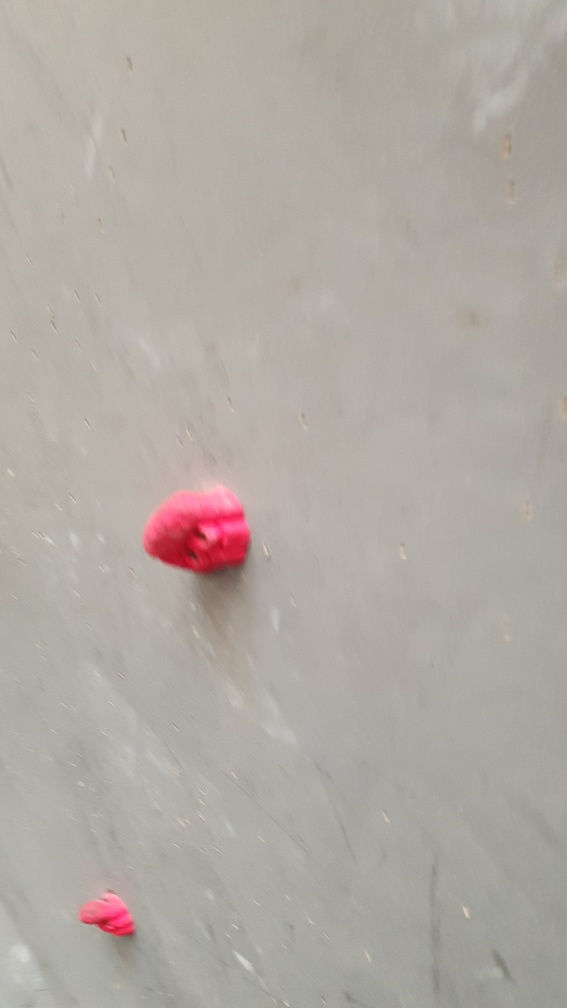Jug: (144, 480, 256, 581), (77, 887, 138, 944)
